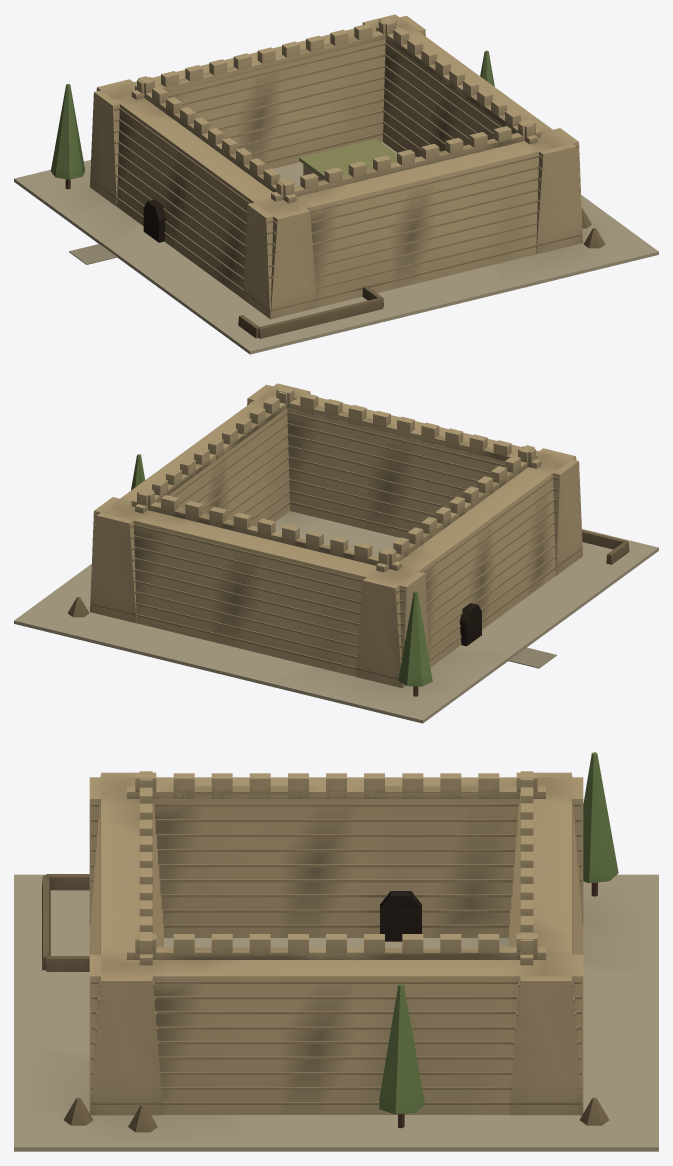
File: han-fort.glb
The picture shows the model from 3 angles, top to bottom: view 1: azimuth 30°, elevation 25°; view 2: azimuth 150°, elevation 25°; view 3: azimuth 270°, elevation 25°; orthographic projection. The views are drawn at different scales.
Parts seen in each view (by area): view 1: p0_walls, p1_corral, p2_trees; view 2: p0_walls, p1_corral, p2_trees; view 3: p0_walls, p1_corral, p2_trees.
Part boxes in pixels (x1,y1,x2,y2): p0_walls: (14,14,658,354); p1_corral: (131,17,541,338); p2_trees: (51,50,605,248); p0_walls: (14,383,658,723); p1_corral: (131,386,629,572); p2_trees: (67,454,432,696); p0_walls: (14,772,658,1151); p1_corral: (42,771,545,971); p2_trees: (63,752,618,1132).
Size of the model in its own units: 43 by 10.93 by 40.
